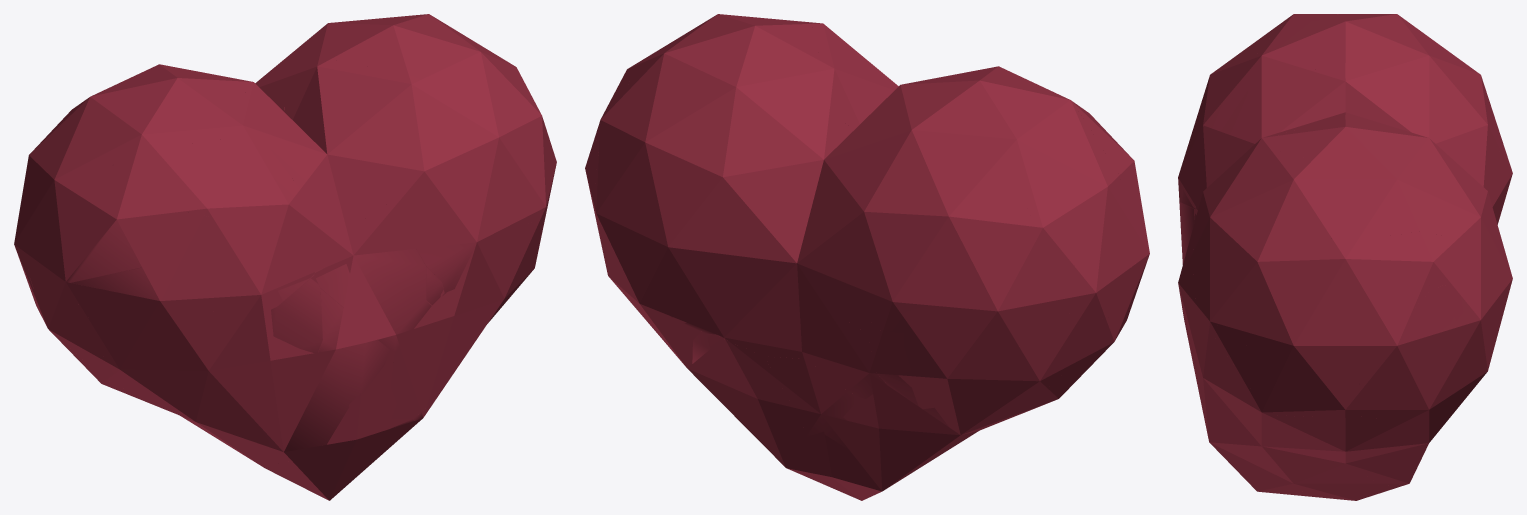
The model's file is Heart.glb.
3 renders of one model, left to right at view 1: azimuth 30°, elevation 25°; view 2: azimuth 150°, elevation 25°; view 3: azimuth 270°, elevation 25°, orthographic. The views are drawn at different scales.
Visible parts, largest first — view 1: origin, Heart_Full_cell.063, Heart_Full_cell.014, Heart_Full_cell.056, Heart_Full_cell.043, Heart_Full_cell.054, Heart_Full_cell.029, Heart_Full_cell.044, Heart_Full_cell.003, Heart_Full_cell.050, Heart_Full_cell.026, Heart_Full_cell.001 (+8 smaller); view 2: origin, Heart_Full_cell.029, Heart_Full_cell.011, Heart_Full_cell.030, Heart_Full_cell.002, Heart_Full_cell.049, Heart_Full_cell.027, Heart_Full_cell.054, Heart_Full_cell.001, Heart_Full_cell.017, Heart_Full_cell.052, Heart_Full_cell.007 (+13 smaller); view 3: origin, Heart_Full_cell.014, Heart_Full_cell.016, Heart_Full_cell.049, Heart_Full_cell.038, Heart_Full_cell.021, Heart_Full_cell.036, Heart_Full_cell.004, Heart_Full_cell.001, Heart_Full_cell.048, Heart_Full_cell.054, Heart_Full_cell.060 (+10 smaller).
Part boxes in pixels (<box>): origin: <box>14,18,552,500</box>; Heart_Full_cell.063: <box>55,132,198,282</box>; Heart_Full_cell.014: <box>409,46,549,227</box>; Heart_Full_cell.056: <box>315,202,431,352</box>; Heart_Full_cell.043: <box>257,289,392,462</box>; Heart_Full_cell.054: <box>242,59,420,137</box>; Heart_Full_cell.029: <box>18,94,152,229</box>; Heart_Full_cell.044: <box>179,135,320,313</box>; Heart_Full_cell.003: <box>57,246,208,329</box>; Heart_Full_cell.050: <box>272,135,412,231</box>; Heart_Full_cell.026: <box>390,150,518,292</box>; Heart_Full_cell.001: <box>95,64,248,145</box>; origin: <box>590,17,1149,500</box>; Heart_Full_cell.029: <box>1003,96,1129,278</box>; Heart_Full_cell.011: <box>639,189,776,334</box>; Heart_Full_cell.030: <box>998,235,1098,343</box>; Heart_Full_cell.002: <box>706,333,804,469</box>; Heart_Full_cell.049: <box>624,16,729,121</box>; Heart_Full_cell.027: <box>783,294,899,403</box>; Heart_Full_cell.054: <box>809,22,944,130</box>; Heart_Full_cell.001: <box>908,66,1060,152</box>; Heart_Full_cell.017: <box>765,356,855,449</box>; Heart_Full_cell.052: <box>710,120,787,217</box>; Heart_Full_cell.007: <box>1019,291,1107,394</box>; origin: <box>1178,14,1508,500</box>; Heart_Full_cell.014: <box>1192,145,1324,327</box>; Heart_Full_cell.016: <box>1242,271,1358,417</box>; Heart_Full_cell.049: <box>1304,143,1448,238</box>; Heart_Full_cell.038: <box>1355,284,1455,421</box>; Heart_Full_cell.021: <box>1274,415,1392,459</box>; Heart_Full_cell.036: <box>1214,446,1378,496</box>; Heart_Full_cell.004: <box>1371,231,1456,288</box>; Heart_Full_cell.001: <box>1256,14,1440,70</box>; Heart_Full_cell.048: <box>1315,238,1431,329</box>; Heart_Full_cell.054: <box>1261,69,1357,143</box>; Heart_Full_cell.060: <box>1209,325,1258,393</box>.
Bounding box in the file's own units: 4.71 × 3.91 × 2.78.
